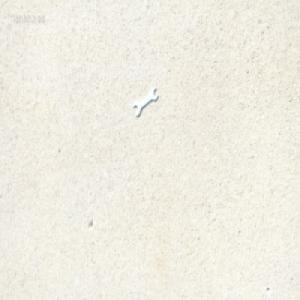Wrench: (132, 86, 158, 117)
